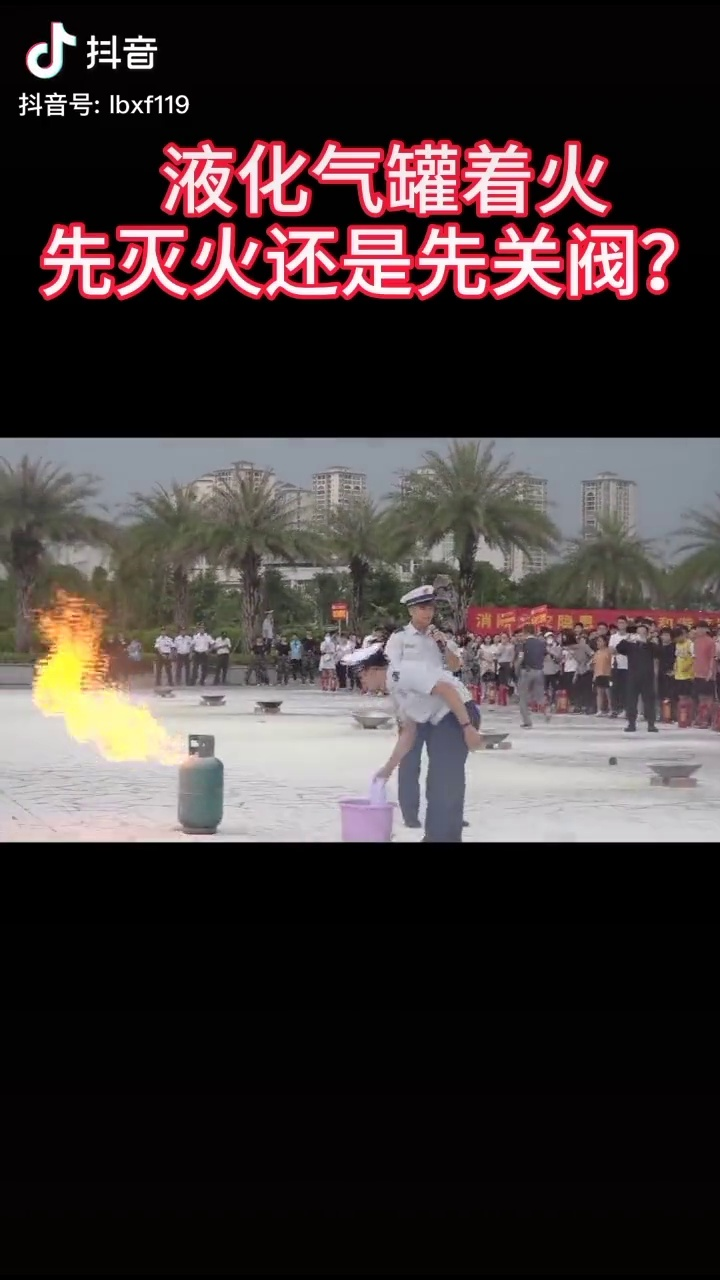fire: (39, 590, 168, 769)
